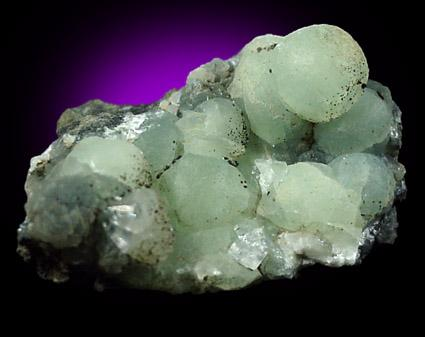prehnite: (55, 25, 396, 274)
